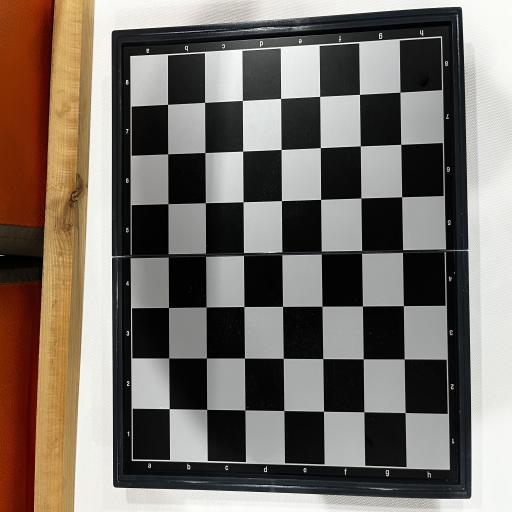Board: (111, 6, 471, 498)
